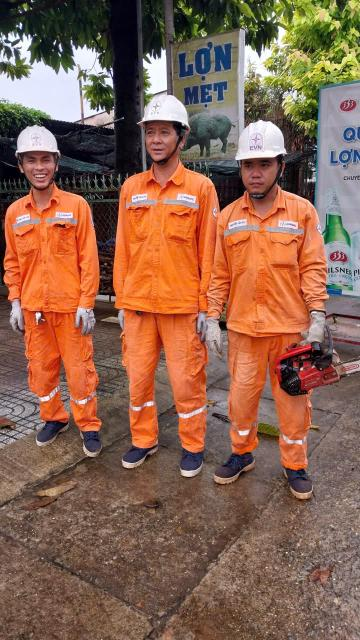gloves: (203, 307, 232, 358), (64, 307, 106, 336), (3, 299, 32, 338), (104, 295, 133, 333), (306, 308, 333, 348), (183, 306, 207, 346)
helmet: (226, 116, 297, 172), (124, 88, 203, 132), (3, 123, 68, 161)
shoes: (20, 410, 75, 452), (212, 448, 268, 485), (276, 453, 316, 504), (115, 432, 159, 474), (164, 444, 208, 478), (76, 420, 101, 462)
